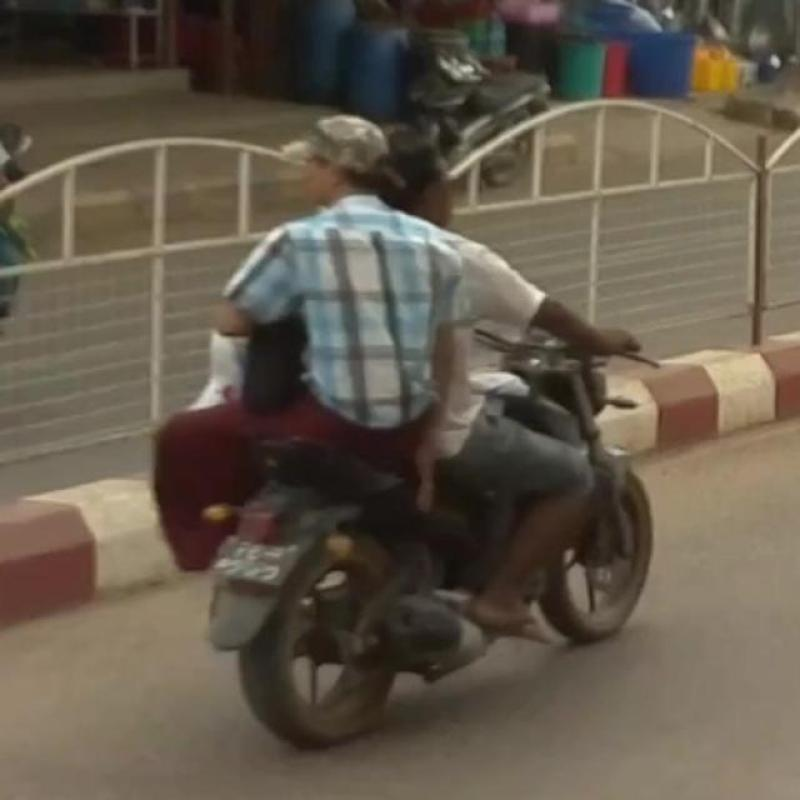nohelmet: (276, 94, 462, 220)
